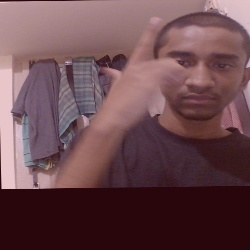hand: (86, 16, 184, 129)
